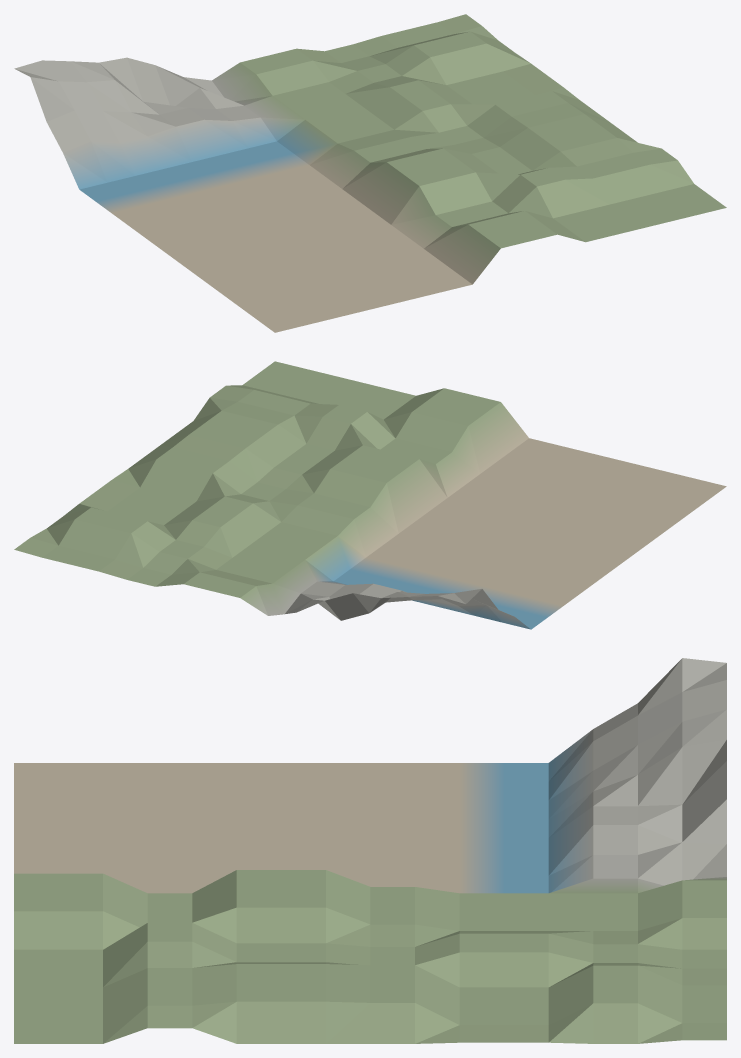
The picture shows the model from 3 angles, top to bottom: view 1: azimuth 30°, elevation 25°; view 2: azimuth 150°, elevation 25°; view 3: azimuth 270°, elevation 25°; orthographic projection. The views are drawn at different scales.
Size of the model in its own units: 32 by 5.19 by 32.
